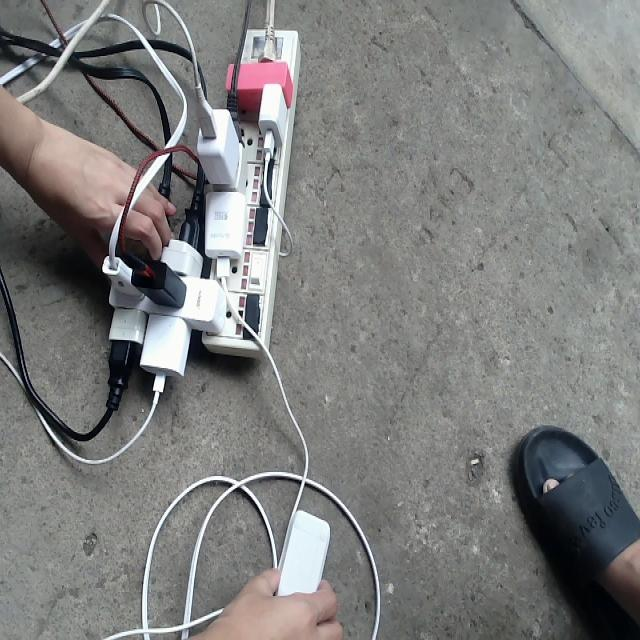-: (100, 28, 300, 375)
